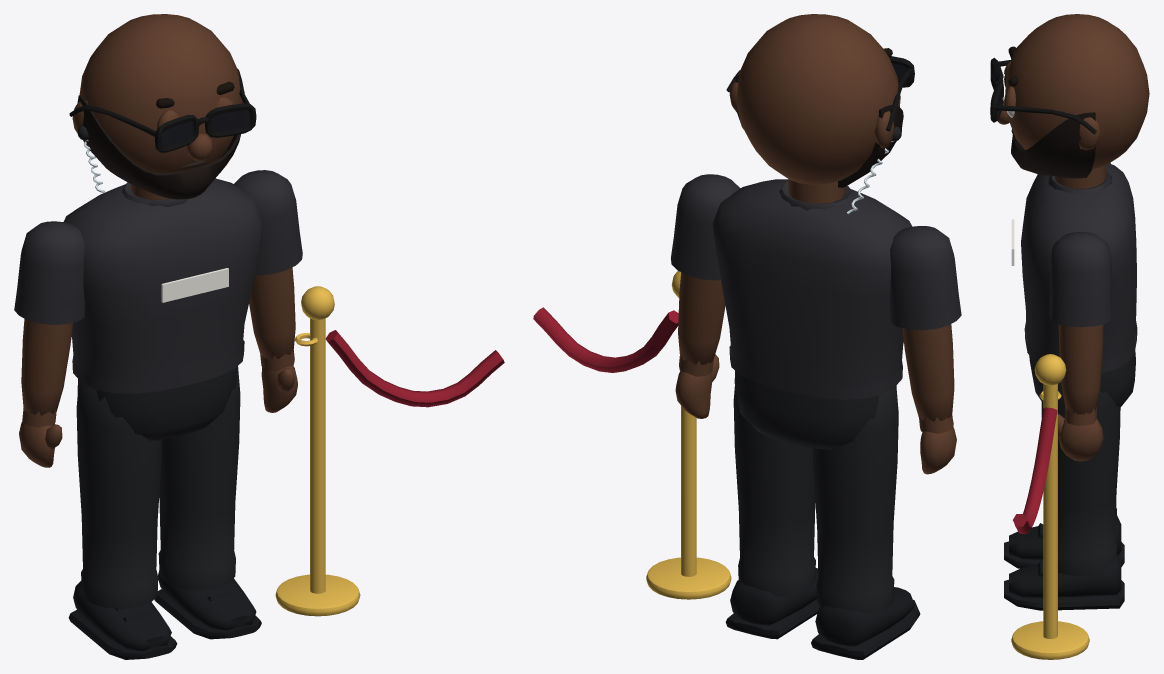
Rendered from Character_Class_bouncer.fbx.
The picture shows the model from 3 angles, left to right: view 1: azimuth 30°, elevation 25°; view 2: azimuth 150°, elevation 25°; view 3: azimuth 270°, elevation 25°; orthographic projection. The views are drawn at different scales.
Visible parts, largest first — view 1: Torso, Head, LegR, LegL, Stanchion, ArmR, Hips, ArmL, Beard, ArmR_Skin, ArmL_Skin, VelvetRope (+9 smaller); view 2: Torso, Head, LegR, LegL, ArmR, Hips, Stanchion, ArmL, ArmR_Skin, ArmL_Skin, VelvetRope, LegR_Shoe (+7 smaller); view 3: Head, Torso, LegL, Stanchion, ArmL, ArmL_Skin, Beard, LegL_Shoe, VelvetRope, HandL, LegL_Sole, Hips (+3 smaller).
Boxes of the visible parts, bbox=[...] form: Torso: bbox=[63, 178, 263, 393]; Head: bbox=[72, 14, 242, 199]; LegR: bbox=[76, 381, 161, 608]; LegL: bbox=[158, 366, 240, 589]; Stanchion: bbox=[275, 286, 360, 616]; ArmR: bbox=[14, 221, 85, 324]; Hips: bbox=[77, 366, 237, 440]; ArmL: bbox=[234, 170, 302, 275]; Beard: bbox=[77, 92, 244, 199]; ArmR_Skin: bbox=[21, 318, 72, 415]; ArmL_Skin: bbox=[249, 267, 295, 359]; VelvetRope: bbox=[325, 330, 504, 407]; Torso: bbox=[712, 179, 912, 399]; Head: bbox=[729, 14, 900, 203]; LegR: bbox=[812, 387, 898, 613]; LegL: bbox=[733, 386, 815, 596]; ArmR: bbox=[890, 226, 961, 330]; Hips: bbox=[734, 370, 896, 449]; Stanchion: bbox=[646, 271, 731, 599]; ArmL: bbox=[670, 174, 739, 280]; ArmR_Skin: bbox=[902, 324, 954, 421]; ArmL_Skin: bbox=[678, 272, 725, 364]; VelvetRope: bbox=[533, 307, 678, 372]; LegR_Shoe: bbox=[815, 587, 914, 646]; Head: bbox=[997, 14, 1149, 188]; Torso: bbox=[1021, 163, 1137, 373]; LegL: bbox=[1041, 382, 1120, 575]; Stanchion: bbox=[1011, 354, 1089, 659]; ArmL: bbox=[1049, 232, 1112, 327]; ArmL_Skin: bbox=[1058, 324, 1103, 414]; Beard: bbox=[1011, 112, 1095, 178]; LegL_Shoe: bbox=[1009, 554, 1121, 597]; VelvetRope: bbox=[1013, 407, 1057, 533]; HandL: bbox=[1058, 406, 1103, 461]; LegL_Sole: bbox=[1004, 561, 1124, 610]; Hips: bbox=[1029, 350, 1135, 406].
Bounding box in the file's own units: 395 × 505 × 130.
